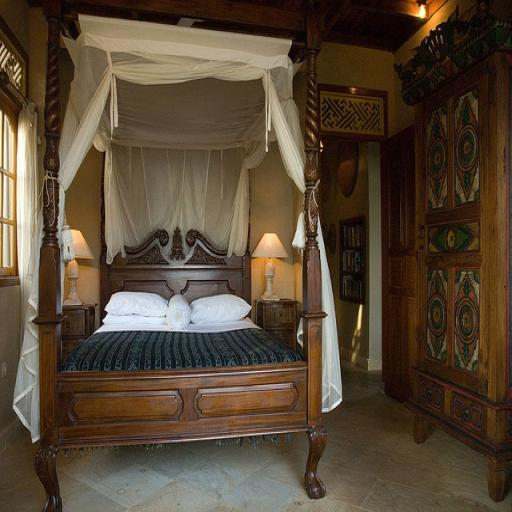bed: (22, 0, 346, 505)
